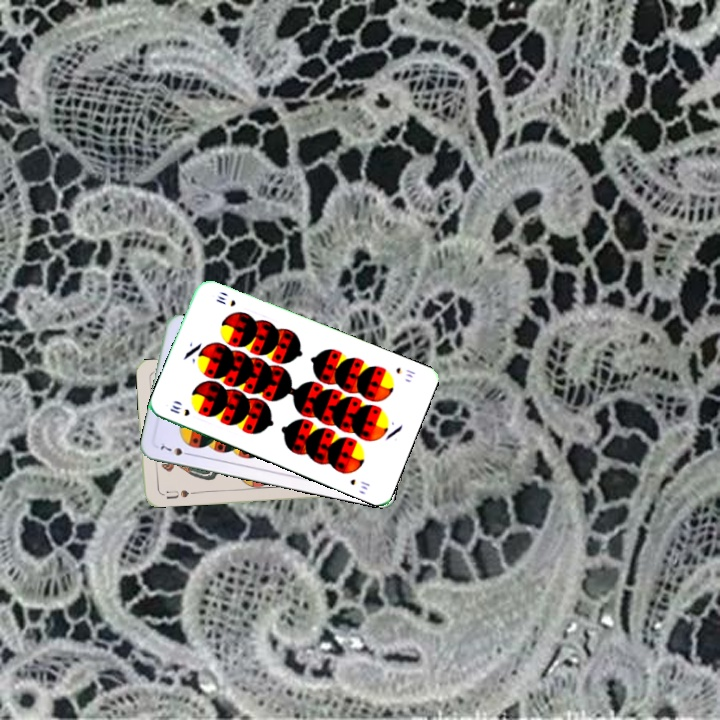S10: (166, 401, 193, 419), (392, 363, 418, 380)
S7: (156, 439, 194, 458)
SU: (162, 486, 197, 502)
